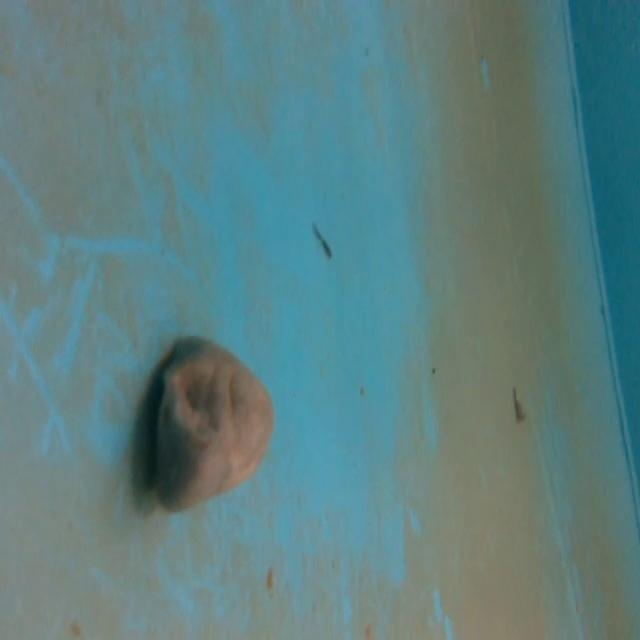rock: (138, 322, 282, 522)
